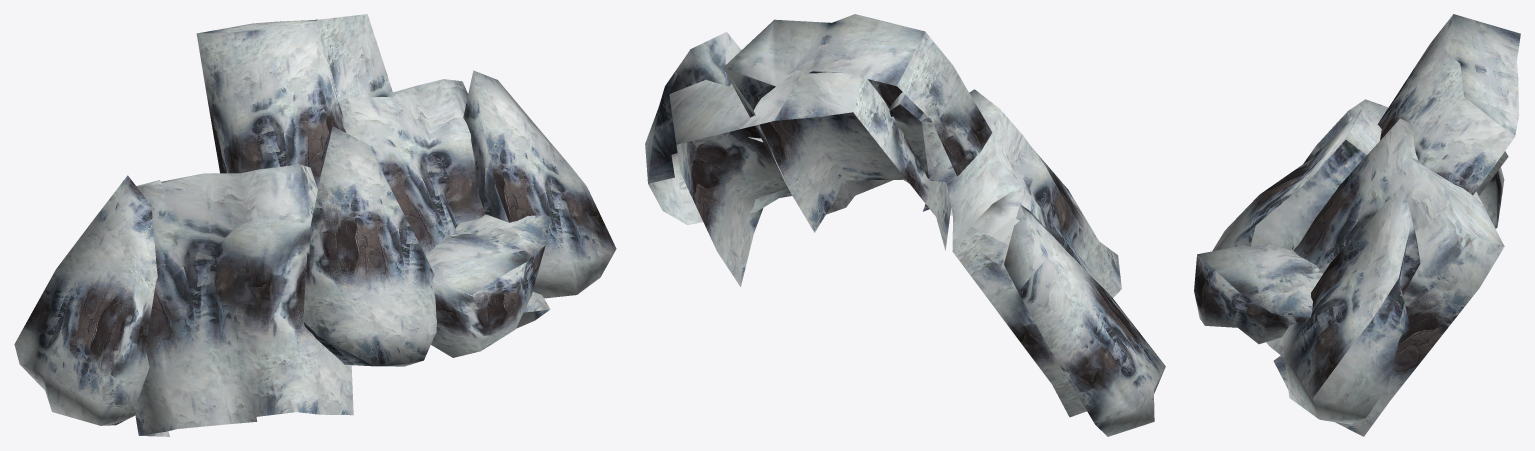
Rendered from S_Rock_White019.FBX.
3 renders of one model, left to right at view 1: azimuth 30°, elevation 25°; view 2: azimuth 150°, elevation 25°; view 3: azimuth 270°, elevation 25°, orthographic. The views are drawn at different scales.
Parts seen in each view (by area): view 1: S_Rock_White019; view 2: S_Rock_White019; view 3: S_Rock_White019.
Boxes of the visible parts, <box> form: S_Rock_White019: <box>14,14,616,436</box>; S_Rock_White019: <box>645,14,1165,436</box>; S_Rock_White019: <box>1194,14,1520,436</box>.
Size of the model in its own units: 1424 by 795 by 945.
